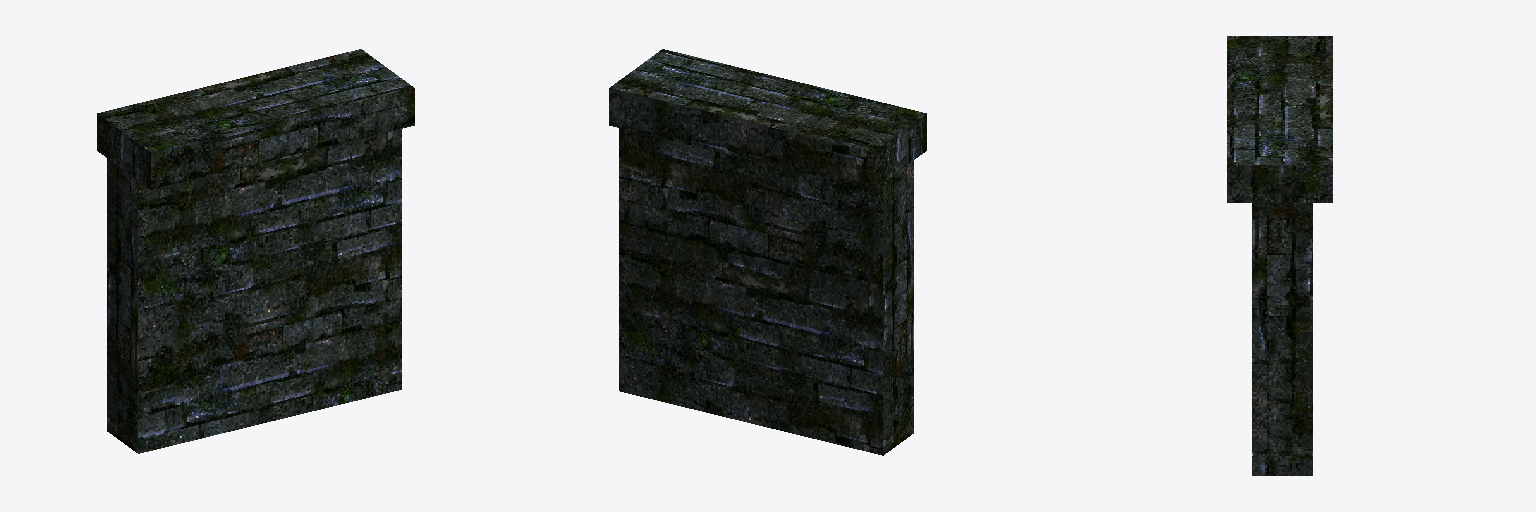
3 views of the same model, side by side, from view 1: azimuth 30°, elevation 25°; view 2: azimuth 150°, elevation 25°; view 3: azimuth 270°, elevation 25° (orthographic).
Parts seen in each view (by area): view 1: wall3_solid; view 2: wall3_solid; view 3: wall3_solid.
Boxes of the visible parts, <box> form: wall3_solid: <box>97,49,414,453</box>; wall3_solid: <box>609,49,926,455</box>; wall3_solid: <box>1227,36,1332,475</box>.
Bounding box in the file's own units: 4 × 4.5 × 1.4.
Materials: 1 (1 with a texture image).